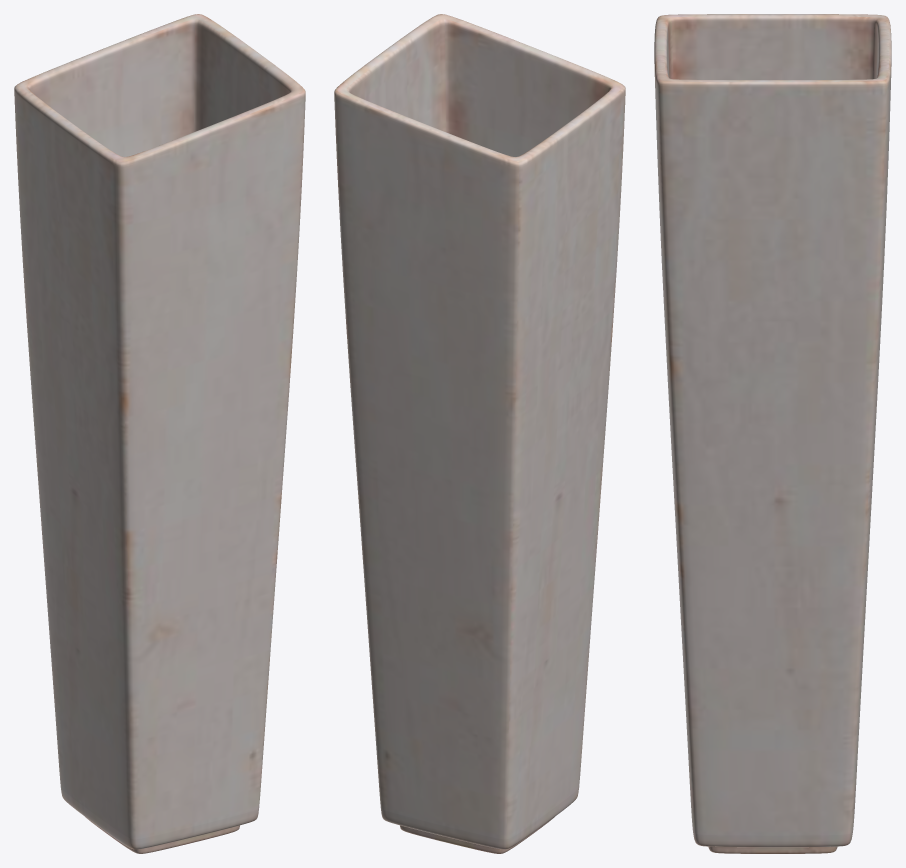
Rendered from vase-tall.glb.
3 renders of one model, left to right at view 1: azimuth 30°, elevation 25°; view 2: azimuth 150°, elevation 25°; view 3: azimuth 270°, elevation 25°, orthographic. The views are drawn at different scales.
Parts seen in each view (by area): view 1: ceramic_vase_03; view 2: ceramic_vase_03; view 3: ceramic_vase_03.
Boxes of the visible parts, box(x1,y1,x2,y2) form: ceramic_vase_03: box(14, 14, 305, 853); ceramic_vase_03: box(334, 14, 625, 853); ceramic_vase_03: box(654, 14, 891, 853).
Size of the model in its own units: 0.1122 by 0.4144 by 0.1122.
Materials: 1 (1 with a texture image).
